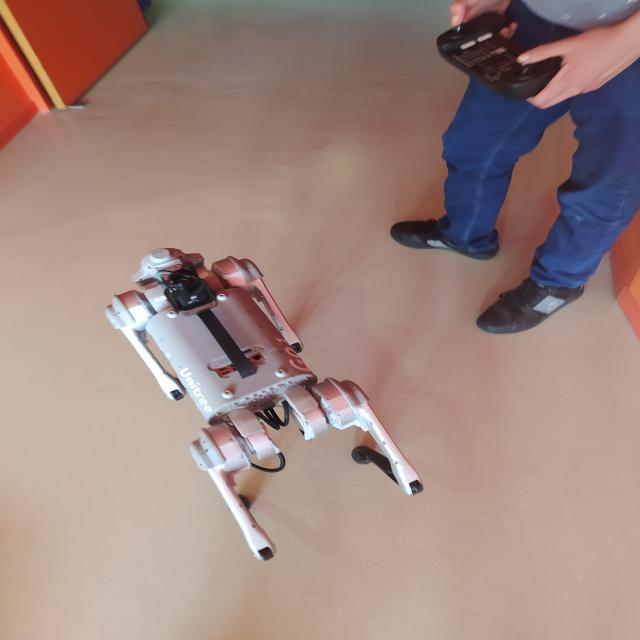unitree-go1-robot: (101, 233, 434, 578)
